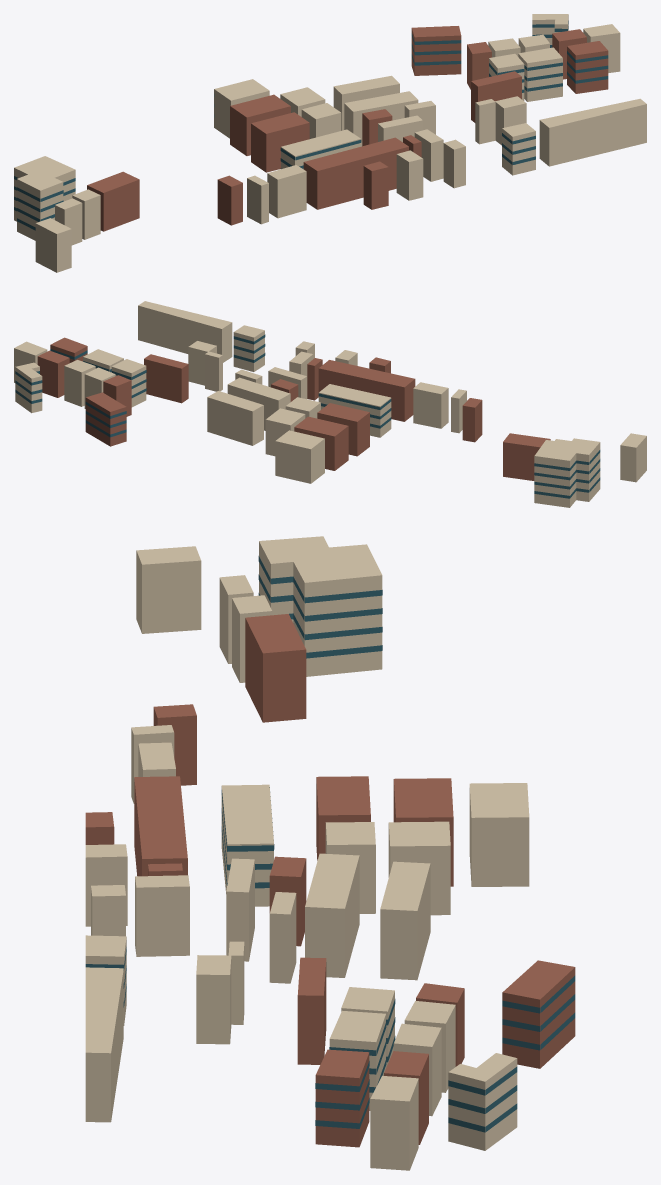
Rendered from city_0_-8.glb.
The picture shows the model from 3 angles, top to bottom: view 1: azimuth 30°, elevation 25°; view 2: azimuth 150°, elevation 25°; view 3: azimuth 270°, elevation 25°; orthographic projection. The views are drawn at different scales.
Parts seen in each view (by area): view 1: city_0_-8; view 2: city_0_-8; view 3: city_0_-8.
Boxes of the visible parts, x1,y1,x2,y2 form: city_0_-8: (14,14,646,272); city_0_-8: (14,301,646,507); city_0_-8: (85,536,575,1170).
Size of the model in its own units: 258 by 20.4 by 96.16.
